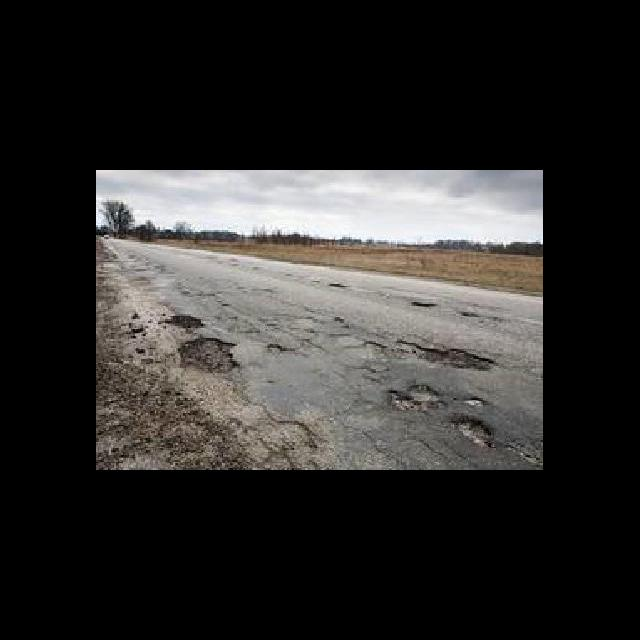lubang_kecil: (399, 329, 503, 389), (163, 330, 255, 381), (373, 378, 444, 423), (447, 406, 495, 457), (159, 306, 215, 332)
